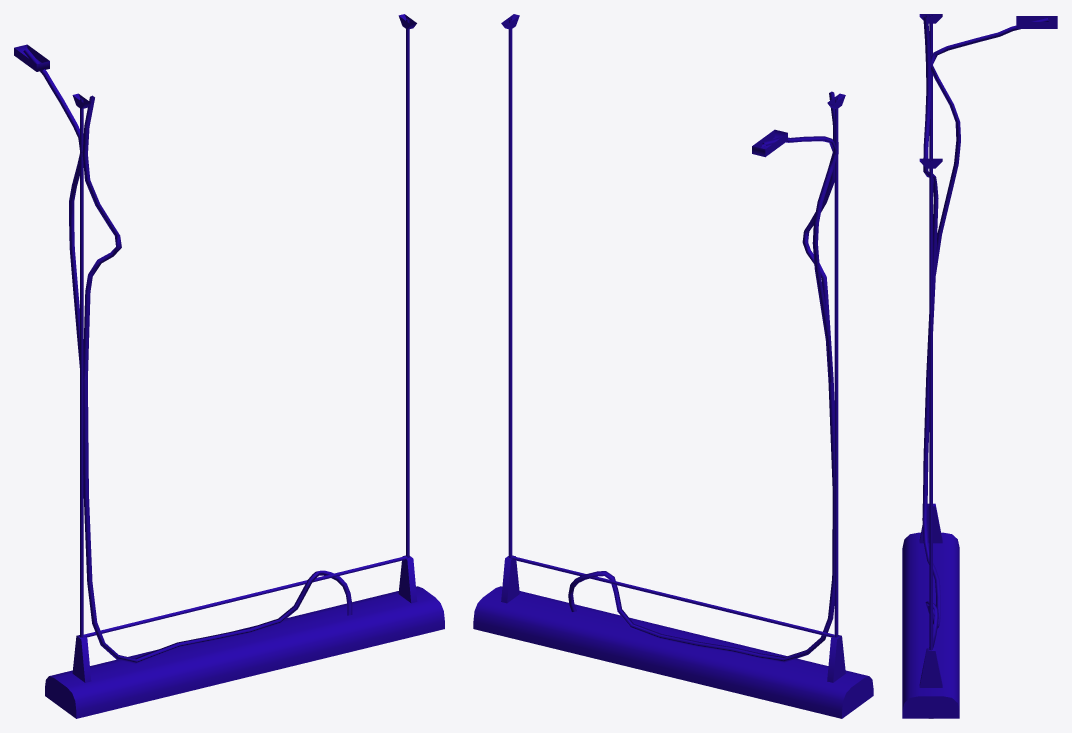
File: LampCeiling_05.FBX
The picture shows the model from 3 angles, left to right: view 1: azimuth 30°, elevation 25°; view 2: azimuth 150°, elevation 25°; view 3: azimuth 270°, elevation 25°; orthographic projection. The views are drawn at different scales.
Visible parts, largest first — view 1: SM_LampCeilingA_04_LOD0; view 2: SM_LampCeilingA_04_LOD0; view 3: SM_LampCeilingA_04_LOD0.
Part boxes in pixels (left/top/right/bottom): SM_LampCeilingA_04_LOD0: left=14, top=14, right=444, bottom=718; SM_LampCeilingA_04_LOD0: left=473, top=14, right=873, bottom=718; SM_LampCeilingA_04_LOD0: left=902, top=14, right=1057, bottom=718.
Size of the model in its own units: 200 by 319 by 80.05.
